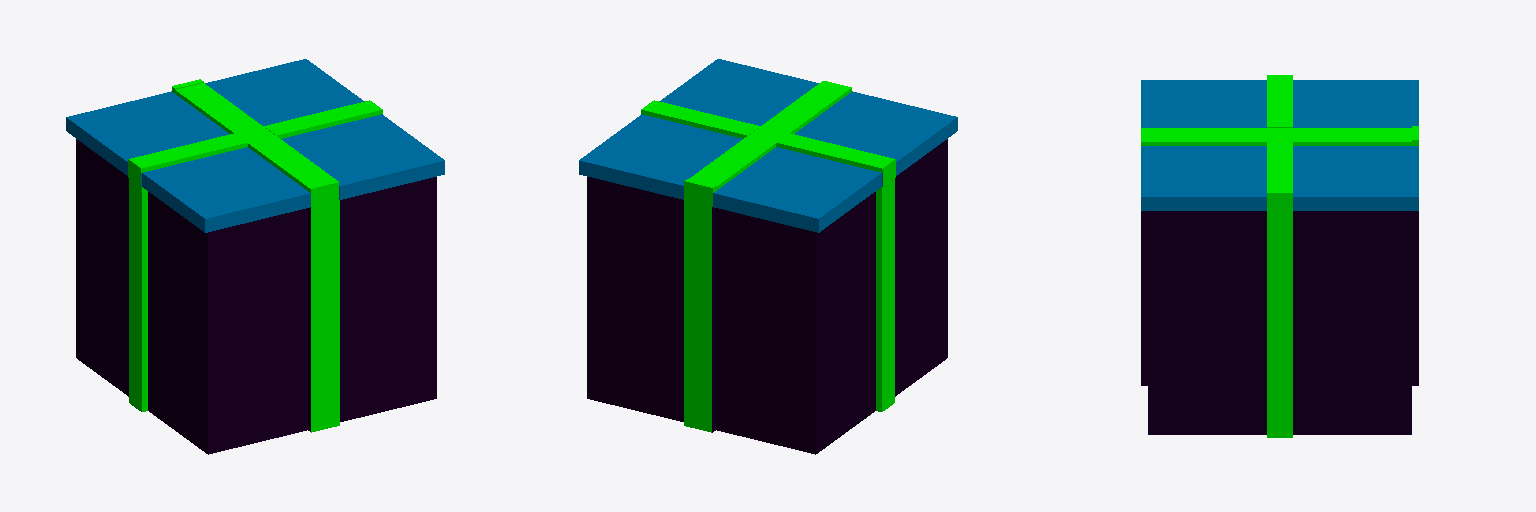
The model's file is BirthdayBox.obj.
The picture shows the model from 3 angles: view 1: azimuth 30°, elevation 25°; view 2: azimuth 150°, elevation 25°; view 3: azimuth 270°, elevation 25°; orthographic projection.
Visible parts, largest first — view 1: BirthdayBox, BirthdayBoxTop; view 2: BirthdayBox, BirthdayBoxTop; view 3: BirthdayBox, BirthdayBoxTop.
Part boxes in pixels (x1,y1,x2,y2): BirthdayBox: (76, 139, 436, 454); BirthdayBoxTop: (66, 59, 444, 232); BirthdayBox: (587, 139, 947, 454); BirthdayBoxTop: (579, 59, 957, 232); BirthdayBox: (1141, 211, 1418, 437); BirthdayBoxTop: (1141, 75, 1418, 211).
Bounding box in the file's own units: 5.31 × 5.12 × 5.28.